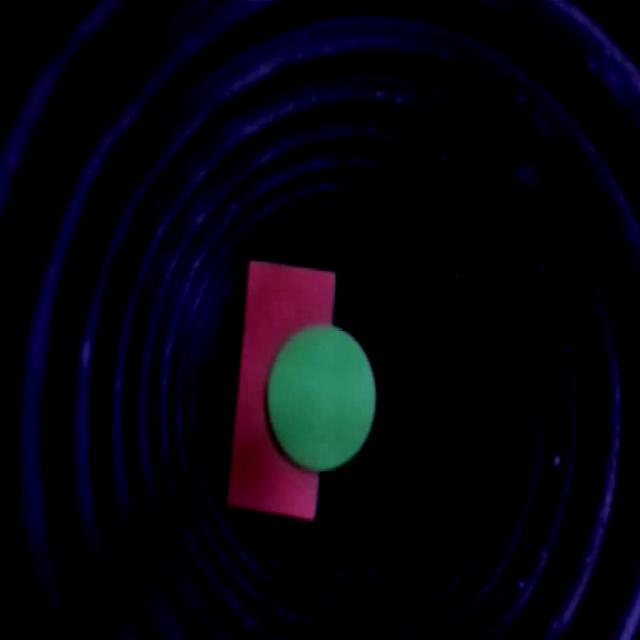obstacles: (225, 259, 370, 529)
